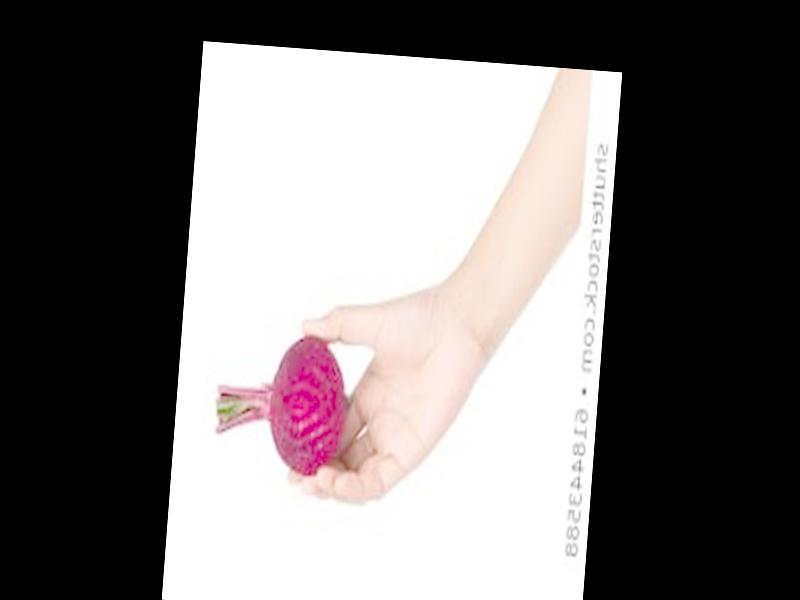Beet: (210, 330, 349, 481)
